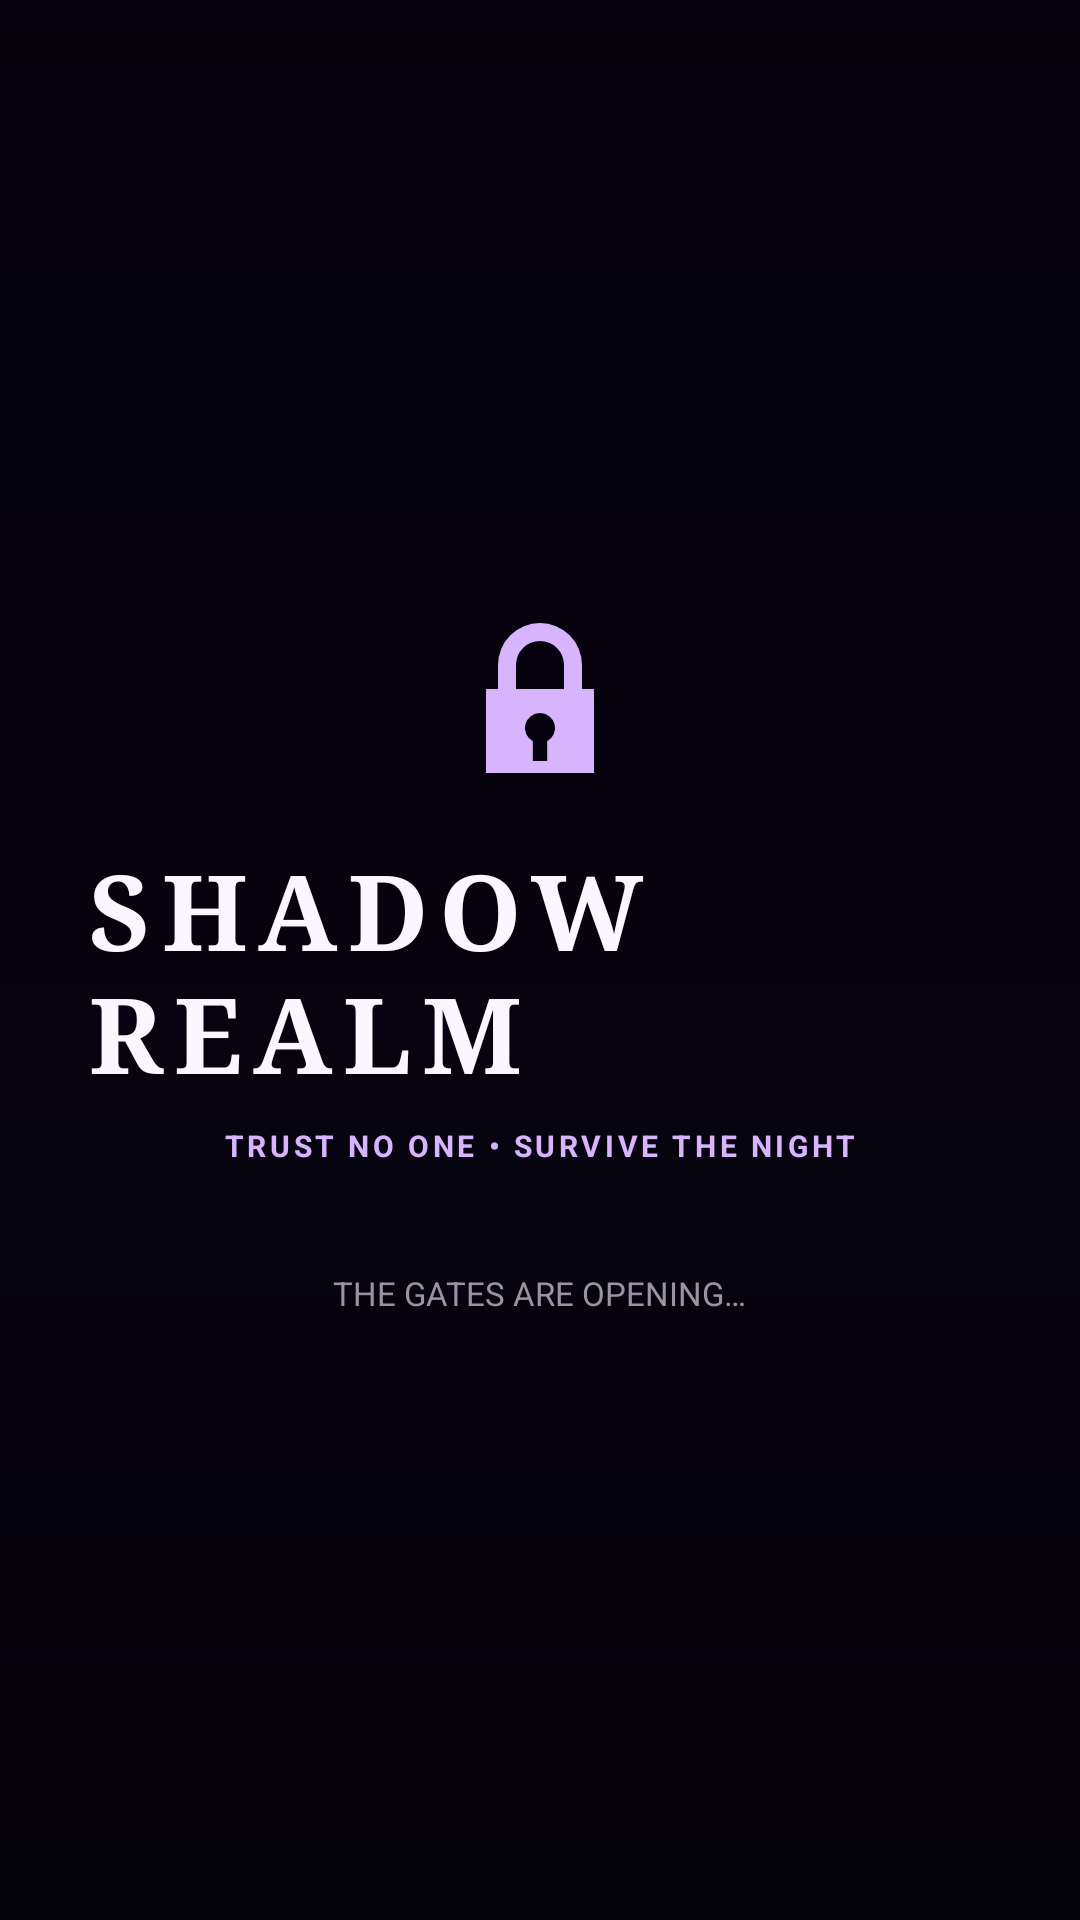

Named icons in this screenshot (1080 × 1920) and their bounding boxes, (x1, y1, x2, y2):
lock: (486, 623, 594, 773)
